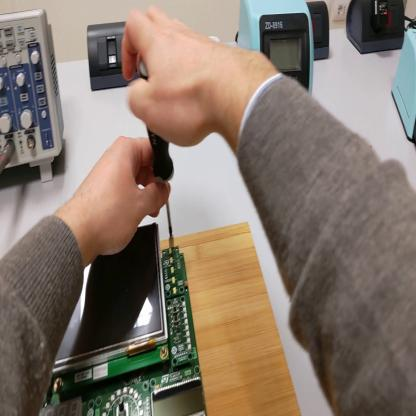hand: (121, 8, 219, 150), (84, 137, 171, 258)
low voltage board: (41, 222, 208, 415)
oscilloscope: (2, 9, 67, 187)
screwdriver-: (143, 57, 176, 235)
socket: (347, 1, 404, 64), (308, 4, 331, 63)
welder base: (391, 27, 416, 156)
welder station: (238, 3, 315, 100)
working area: (60, 219, 302, 416)
